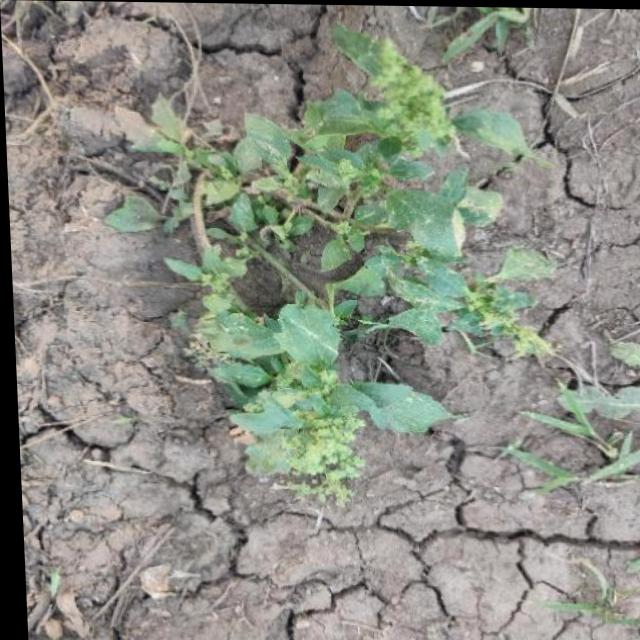weed: (103, 49, 561, 493)
